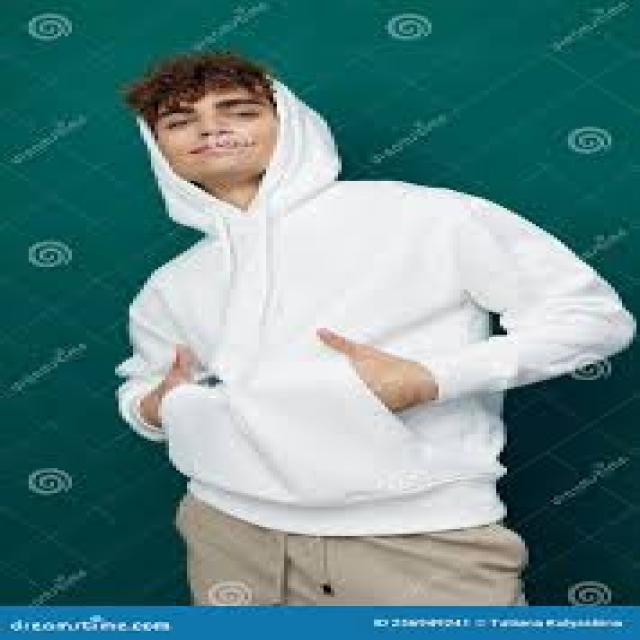4_capucha: (125, 46, 347, 239)
